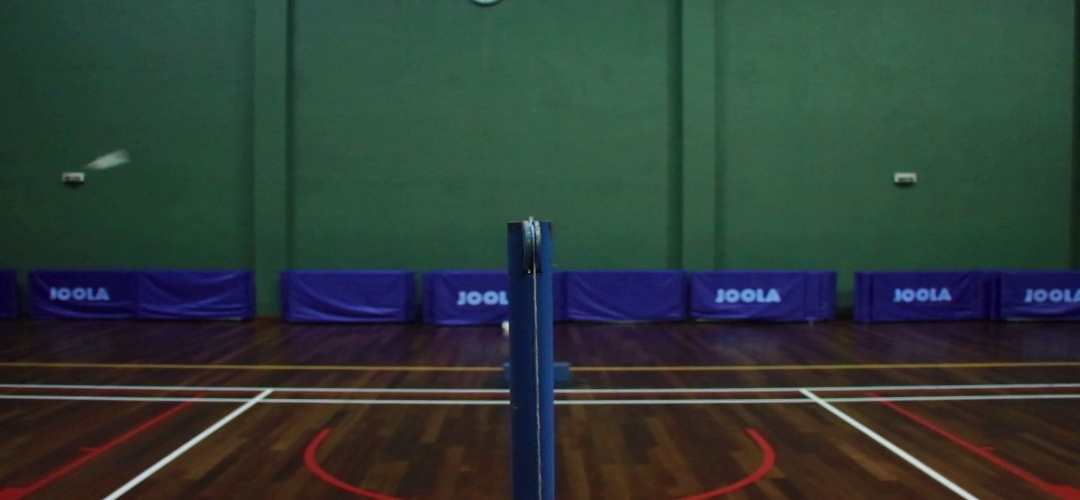c1: (238, 396, 276, 410)
c2: (800, 394, 837, 408)
net_level: (506, 222, 554, 287)
shuttle: (86, 149, 133, 171)
